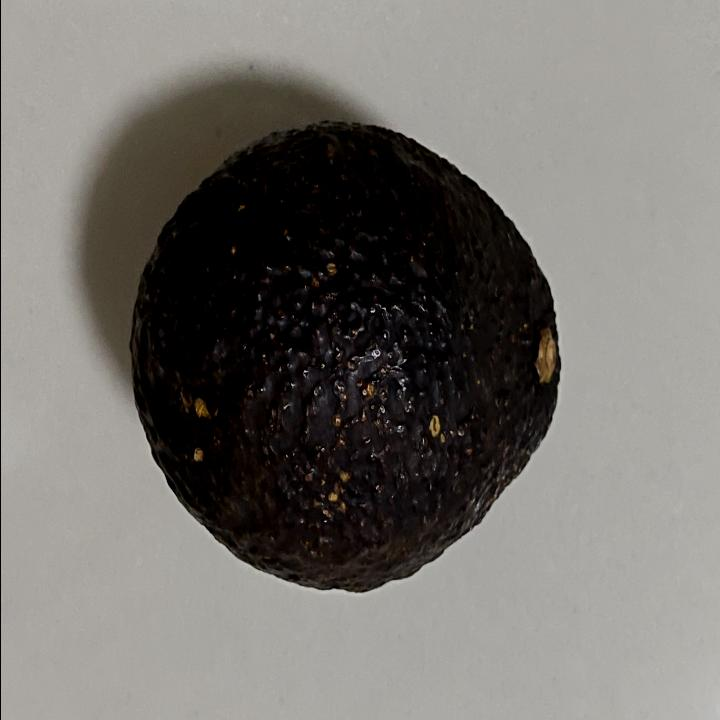Level3: (122, 112, 572, 601)
